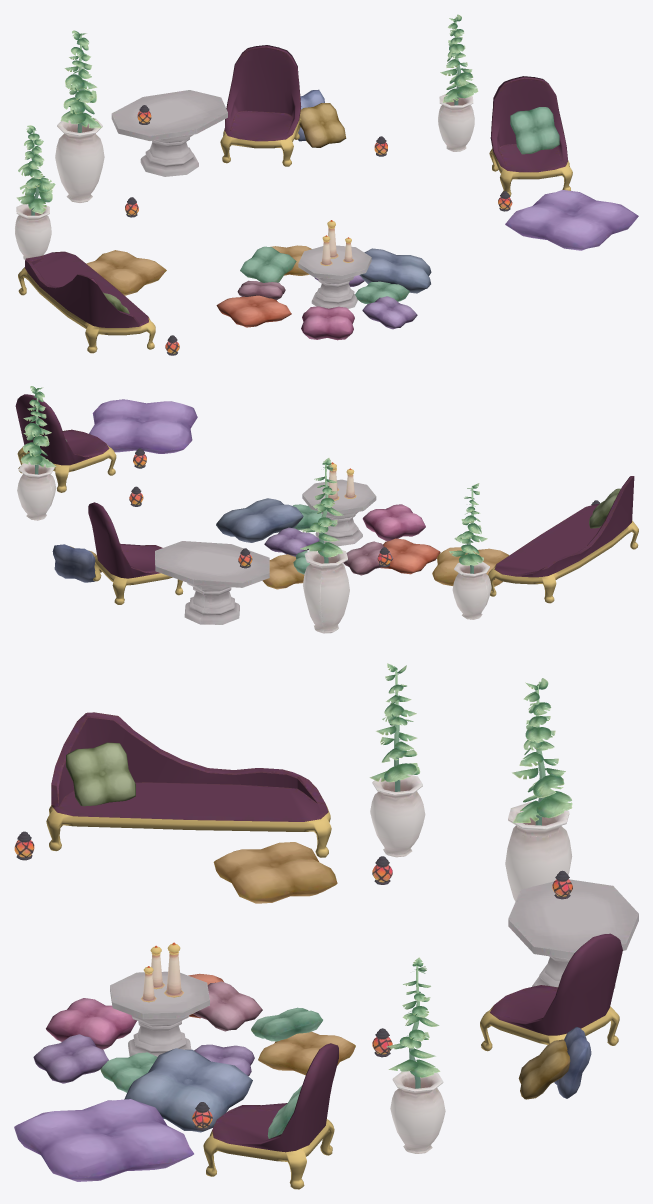
The model's file is lounge-props.glb.
3 renders of one model, top to bottom at view 1: azimuth 30°, elevation 25°; view 2: azimuth 150°, elevation 25°; view 3: azimuth 270°, elevation 25°, orthographic. The views are drawn at different scales.
Parts seen in each view (by area): view 1: Chair1_StingrayPBS4_0, Sofa_StingrayPBS4_0, Table2_StingrayPBS5_0, Chair2_StingrayPBS4_0, Pillow11_StingrayPBS5_0, PotplantBase1_StingrayPBS5_0, Table1_StingrayPBS5_0, PlantLeaves1_StingrayPBS5_0, Pillow10_StingrayPBS5_0, Pillow4_StingrayPBS6_0, Pillow12_StingrayPBS5_0, PlantLeaves2_StingrayPBS5_0 (+11 smaller); view 2: Sofa_StingrayPBS4_0, Table2_StingrayPBS5_0, Pillow11_StingrayPBS5_0, Chair1_StingrayPBS4_0, Chair2_StingrayPBS4_0, PotplantBase1_StingrayPBS5_0, Pillow4_StingrayPBS6_0, Table1_StingrayPBS5_0, PotplantBase2_StingrayPBS5_0, PotplantBase3_StingrayPBS5_0, Pillow2_StingrayPBS6_0, PlantLeaves1_StingrayPBS5_0 (+10 smaller); view 3: Sofa_StingrayPBS4_0, Pillow11_StingrayPBS5_0, Chair1_StingrayPBS4_0, Chair2_StingrayPBS4_0, Table2_StingrayPBS5_0, Pillow4_StingrayPBS6_0, Pillow10_StingrayPBS5_0, Table1_StingrayPBS5_0, PotplantBase1_StingrayPBS5_0, PlantLeaves1_StingrayPBS5_0, PotplantBase3_StingrayPBS5_0, Pillow7_StingrayPBS6_0 (+12 smaller).
Part boxes in pixels (<box>): Chair1_StingrayPBS4_0: <box>220,45,301,166</box>; Sofa_StingrayPBS4_0: <box>18,251,155,353</box>; Table2_StingrayPBS5_0: <box>111,90,227,176</box>; Chair2_StingrayPBS4_0: <box>489,76,572,196</box>; Pillow11_StingrayPBS5_0: <box>505,190,638,250</box>; PotplantBase1_StingrayPBS5_0: <box>55,117,104,202</box>; Table1_StingrayPBS5_0: <box>298,245,371,308</box>; PlantLeaves1_StingrayPBS5_0: <box>60,30,101,132</box>; Pillow10_StingrayPBS5_0: <box>86,250,166,295</box>; Pillow4_StingrayPBS6_0: <box>359,248,431,293</box>; Pillow12_StingrayPBS5_0: <box>510,107,559,154</box>; PlantLeaves2_StingrayPBS5_0: <box>16,125,55,215</box>; Sofa_StingrayPBS4_0: <box>488,476,638,603</box>; Table2_StingrayPBS5_0: <box>155,541,269,624</box>; Pillow11_StingrayPBS5_0: <box>89,399,197,453</box>; Chair1_StingrayPBS4_0: <box>88,502,183,604</box>; Chair2_StingrayPBS4_0: <box>15,394,116,492</box>; PotplantBase1_StingrayPBS5_0: <box>303,549,349,633</box>; Pillow4_StingrayPBS6_0: <box>216,498,303,542</box>; Table1_StingrayPBS5_0: <box>302,479,376,546</box>; PotplantBase2_StingrayPBS5_0: <box>452,562,491,619</box>; PotplantBase3_StingrayPBS5_0: <box>17,462,56,520</box>; Pillow2_StingrayPBS6_0: <box>362,504,425,541</box>; PlantLeaves1_StingrayPBS5_0: <box>300,458,343,563</box>; Sofa_StingrayPBS4_0: <box>46,712,331,857</box>; Pillow11_StingrayPBS5_0: <box>14,1099,193,1181</box>; Chair1_StingrayPBS4_0: <box>480,933,622,1051</box>; Chair2_StingrayPBS4_0: <box>203,1043,338,1189</box>; Table2_StingrayPBS5_0: <box>508,879,638,988</box>; Pillow4_StingrayPBS6_0: <box>124,1048,252,1132</box>; Pillow10_StingrayPBS5_0: <box>213,842,337,903</box>; Table1_StingrayPBS5_0: <box>110,971,209,1056</box>; PotplantBase1_StingrayPBS5_0: <box>505,802,572,901</box>; PlantLeaves1_StingrayPBS5_0: <box>512,678,572,825</box>; PotplantBase3_StingrayPBS5_0: <box>390,1071,445,1153</box>; Pillow7_StingrayPBS6_0: <box>66,742,135,806</box>.
Size of the model in its own units: 998 by 371 by 697.
3 materials, 3 textured.
